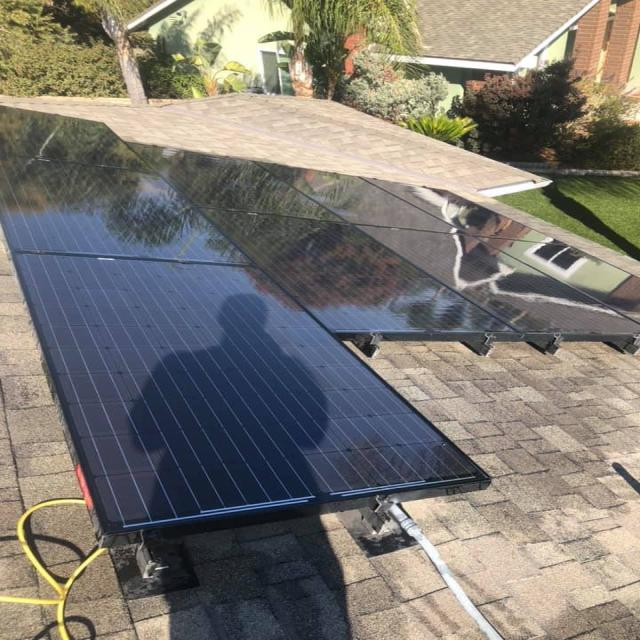clean-solar-panel: (3, 110, 490, 541), (134, 146, 638, 351)
